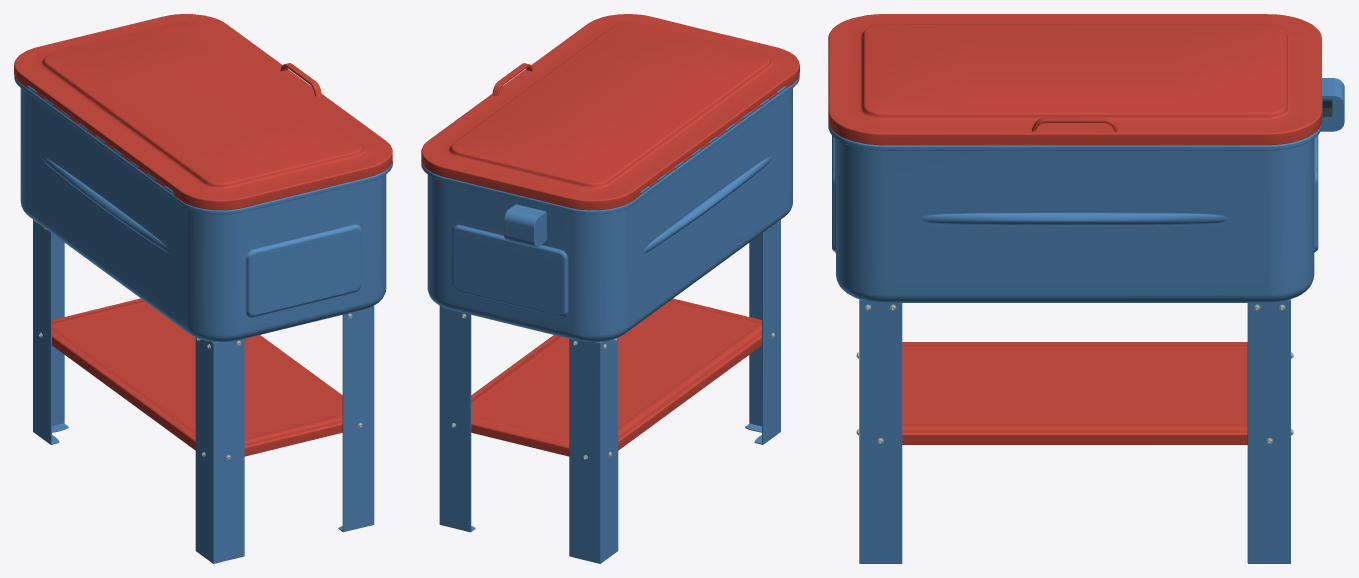
Rendered from equipment_parts_washer_manual_c01.glb.
The picture shows the model from 3 angles, left to right: view 1: azimuth 30°, elevation 25°; view 2: azimuth 150°, elevation 25°; view 3: azimuth 270°, elevation 25°; orthographic projection. The views are drawn at different scales.
Bounding box in the file's own units: 0.6728 × 1.19 × 1.22.
